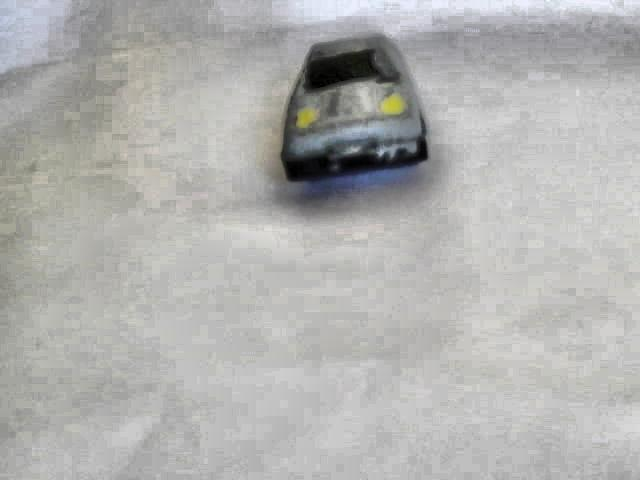normal_car: (273, 32, 433, 184)
